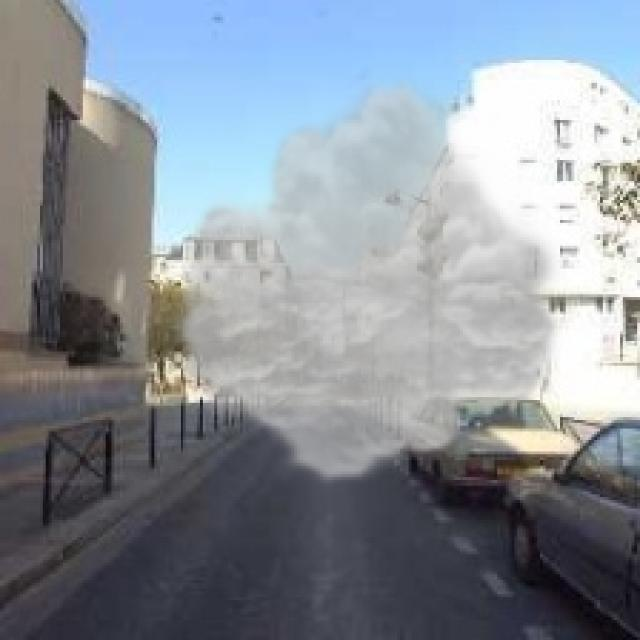Smoke: (166, 74, 568, 486)
